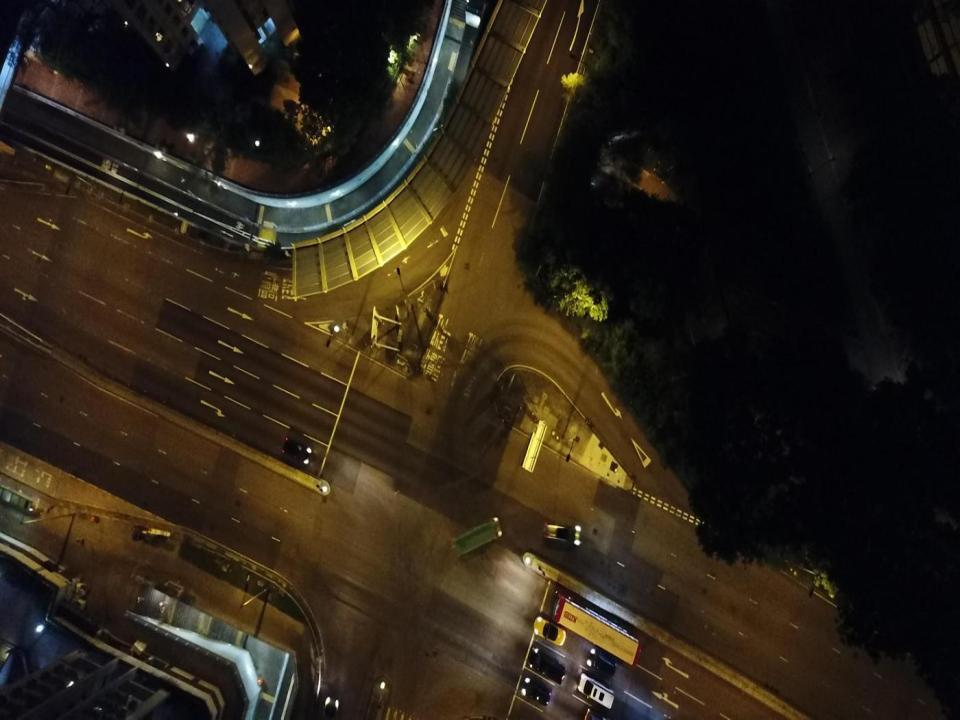bus: (549, 590, 643, 669), (452, 516, 503, 558)
car: (528, 647, 566, 685), (577, 672, 614, 710), (542, 521, 582, 547), (534, 616, 566, 647), (520, 676, 552, 706), (282, 436, 313, 465), (586, 649, 616, 677), (321, 696, 339, 719)
